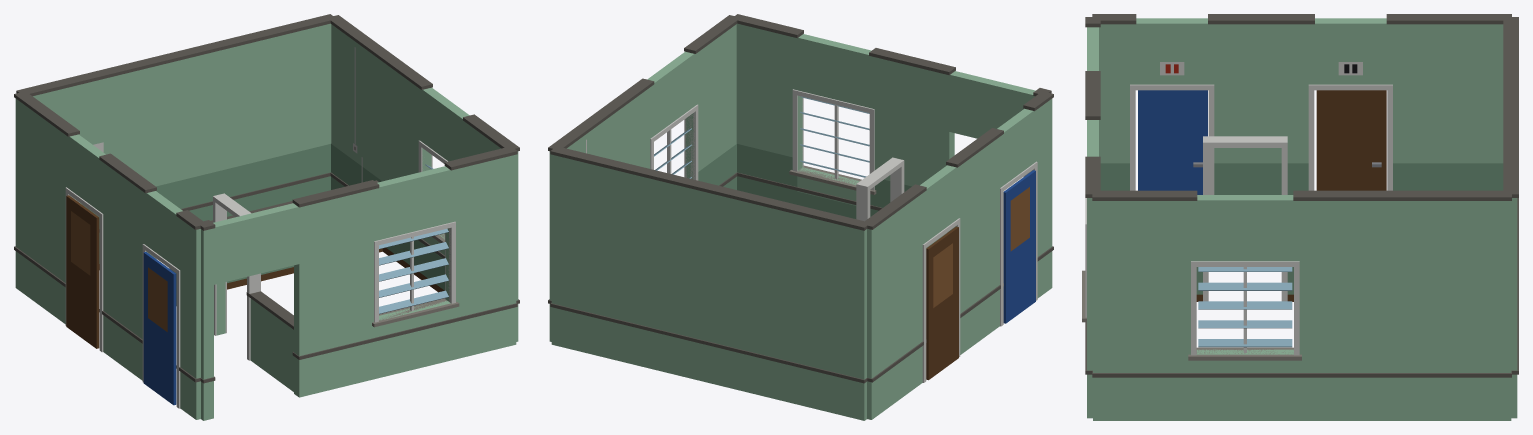
The model's file is bld_home-hostel-house.glb.
3 views of the same model, side by side, from view 1: azimuth 30°, elevation 25°; view 2: azimuth 150°, elevation 25°; view 3: azimuth 270°, elevation 25° (orthographic). The views are drawn at different scales.
Parts seen in each view (by area): view 1: wall_front_full, wall_back_full, wall_left_full, wall_right_full, wall_front_low, body, wall_left_low, wall_back_low, wall_right_low; view 2: wall_back_full, wall_left_full, wall_front_full, wall_right_full, wall_back_low, wall_left_low, wall_front_low, body; view 3: wall_right_full, wall_left_full, wall_right_low, wall_back_full, wall_front_full, body.
Part boxes in pixels (x1=…): wall_front_full: x1=200, y1=146, x2=517, y2=420; wall_back_full: x1=16, y1=14, x2=336, y2=269; wall_left_full: x1=14, y1=93, x2=205, y2=419; wall_right_full: x1=330, y1=15, x2=519, y2=332; wall_front_low: x1=200, y1=303, x2=517, y2=420; body: x1=169, y1=180, x2=382, y2=391; wall_left_low: x1=14, y1=194, x2=200, y2=419; wall_back_low: x1=99, y1=172, x2=331, y2=268; wall_right_low: x1=330, y1=173, x2=519, y2=341; wall_back_full: x1=550, y1=146, x2=870, y2=420; wall_left_full: x1=861, y1=91, x2=1053, y2=419; wall_front_full: x1=731, y1=14, x2=1051, y2=216; wall_right_full: x1=548, y1=15, x2=739, y2=334; wall_back_low: x1=550, y1=303, x2=867, y2=420; wall_left_low: x1=867, y1=168, x2=1053, y2=419; wall_front_low: x1=736, y1=172, x2=882, y2=218; body: x1=856, y1=157, x2=946, y2=247; wall_right_full: x1=1092, y1=190, x2=1511, y2=420; wall_left_full: x1=1092, y1=14, x2=1511, y2=194; wall_right_low: x1=1092, y1=370, x2=1511, y2=420; wall_back_full: x1=1503, y1=17, x2=1518, y2=418; wall_front_full: x1=1082, y1=17, x2=1100, y2=418; body: x1=1196, y1=136, x2=1293, y2=301.
Bounding box in the file's own units: 5.41 × 3.05 × 5.38.
